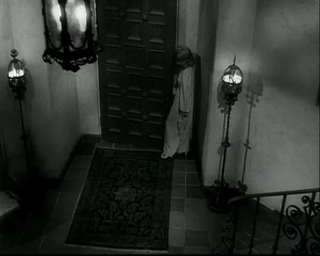els: (1, 1, 320, 256)
face_es: (173, 50, 185, 67)
person: (160, 43, 195, 158)
